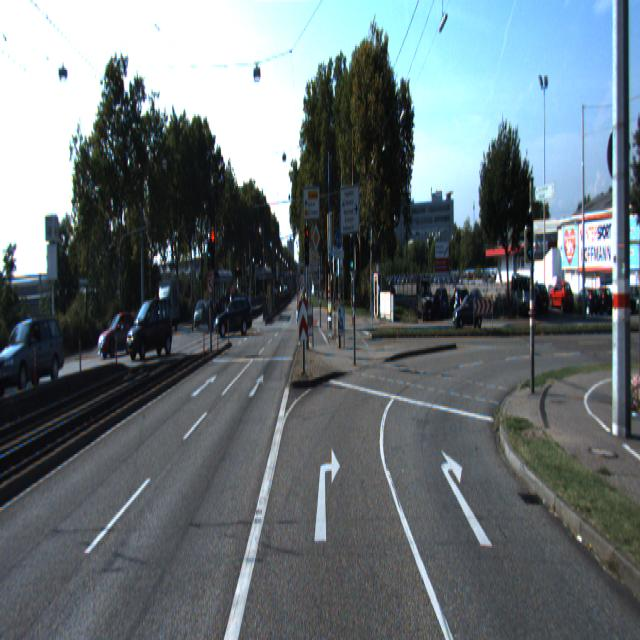Car: (0, 314, 70, 402), (126, 298, 173, 364), (98, 312, 144, 363), (213, 296, 254, 342), (451, 292, 484, 330)
DontCare: (382, 267, 639, 320), (194, 297, 211, 324)
